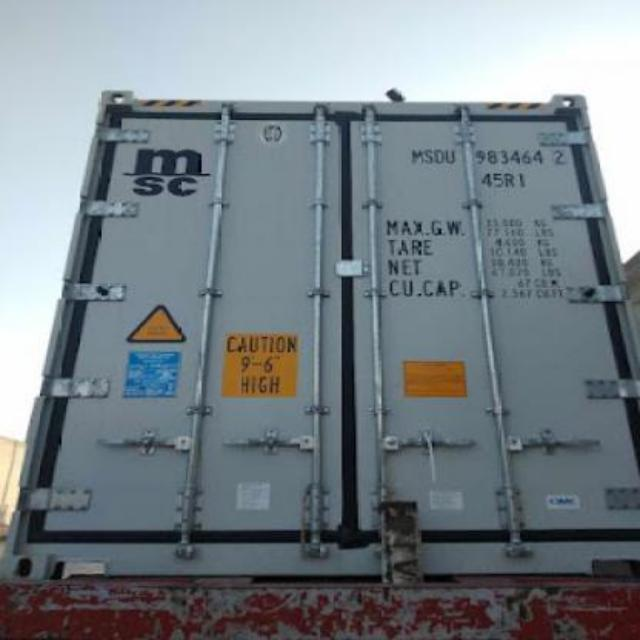2: (550, 143, 572, 169)
3: (496, 144, 508, 166)
4: (532, 144, 548, 168), (508, 144, 520, 166)
6: (518, 142, 532, 168)
8: (486, 142, 498, 164)
9: (474, 144, 486, 168)
D: (432, 144, 444, 168)
M: (408, 144, 422, 168)
S: (422, 143, 432, 167)
U: (442, 140, 458, 168)
